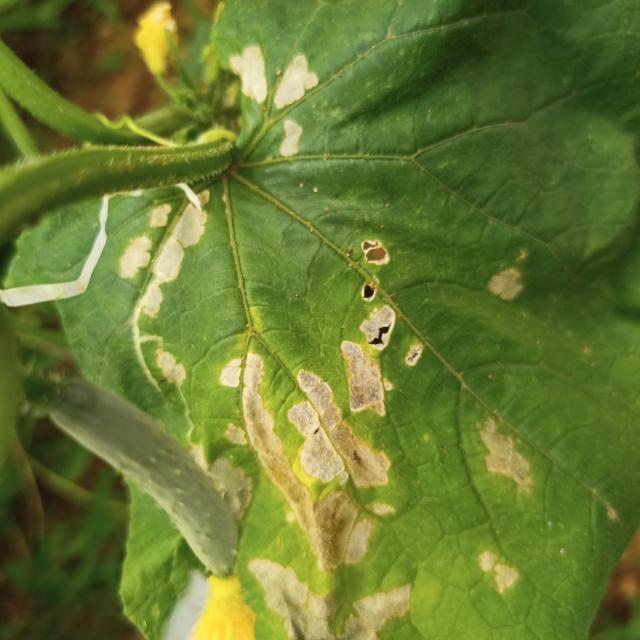disease_cucumber: (120, 191, 536, 640), (228, 44, 318, 164)
